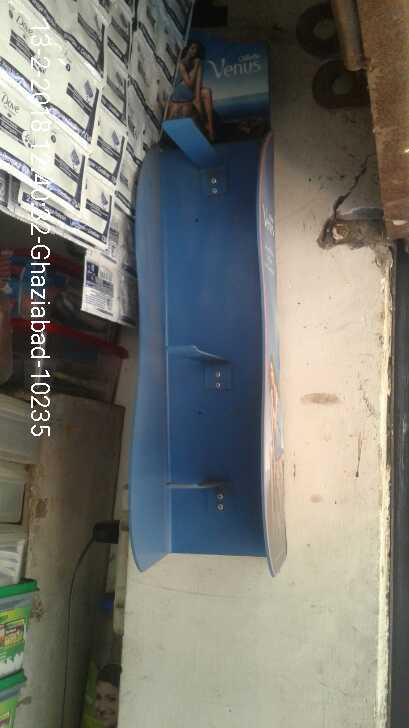reject: (174, 287, 383, 495)
